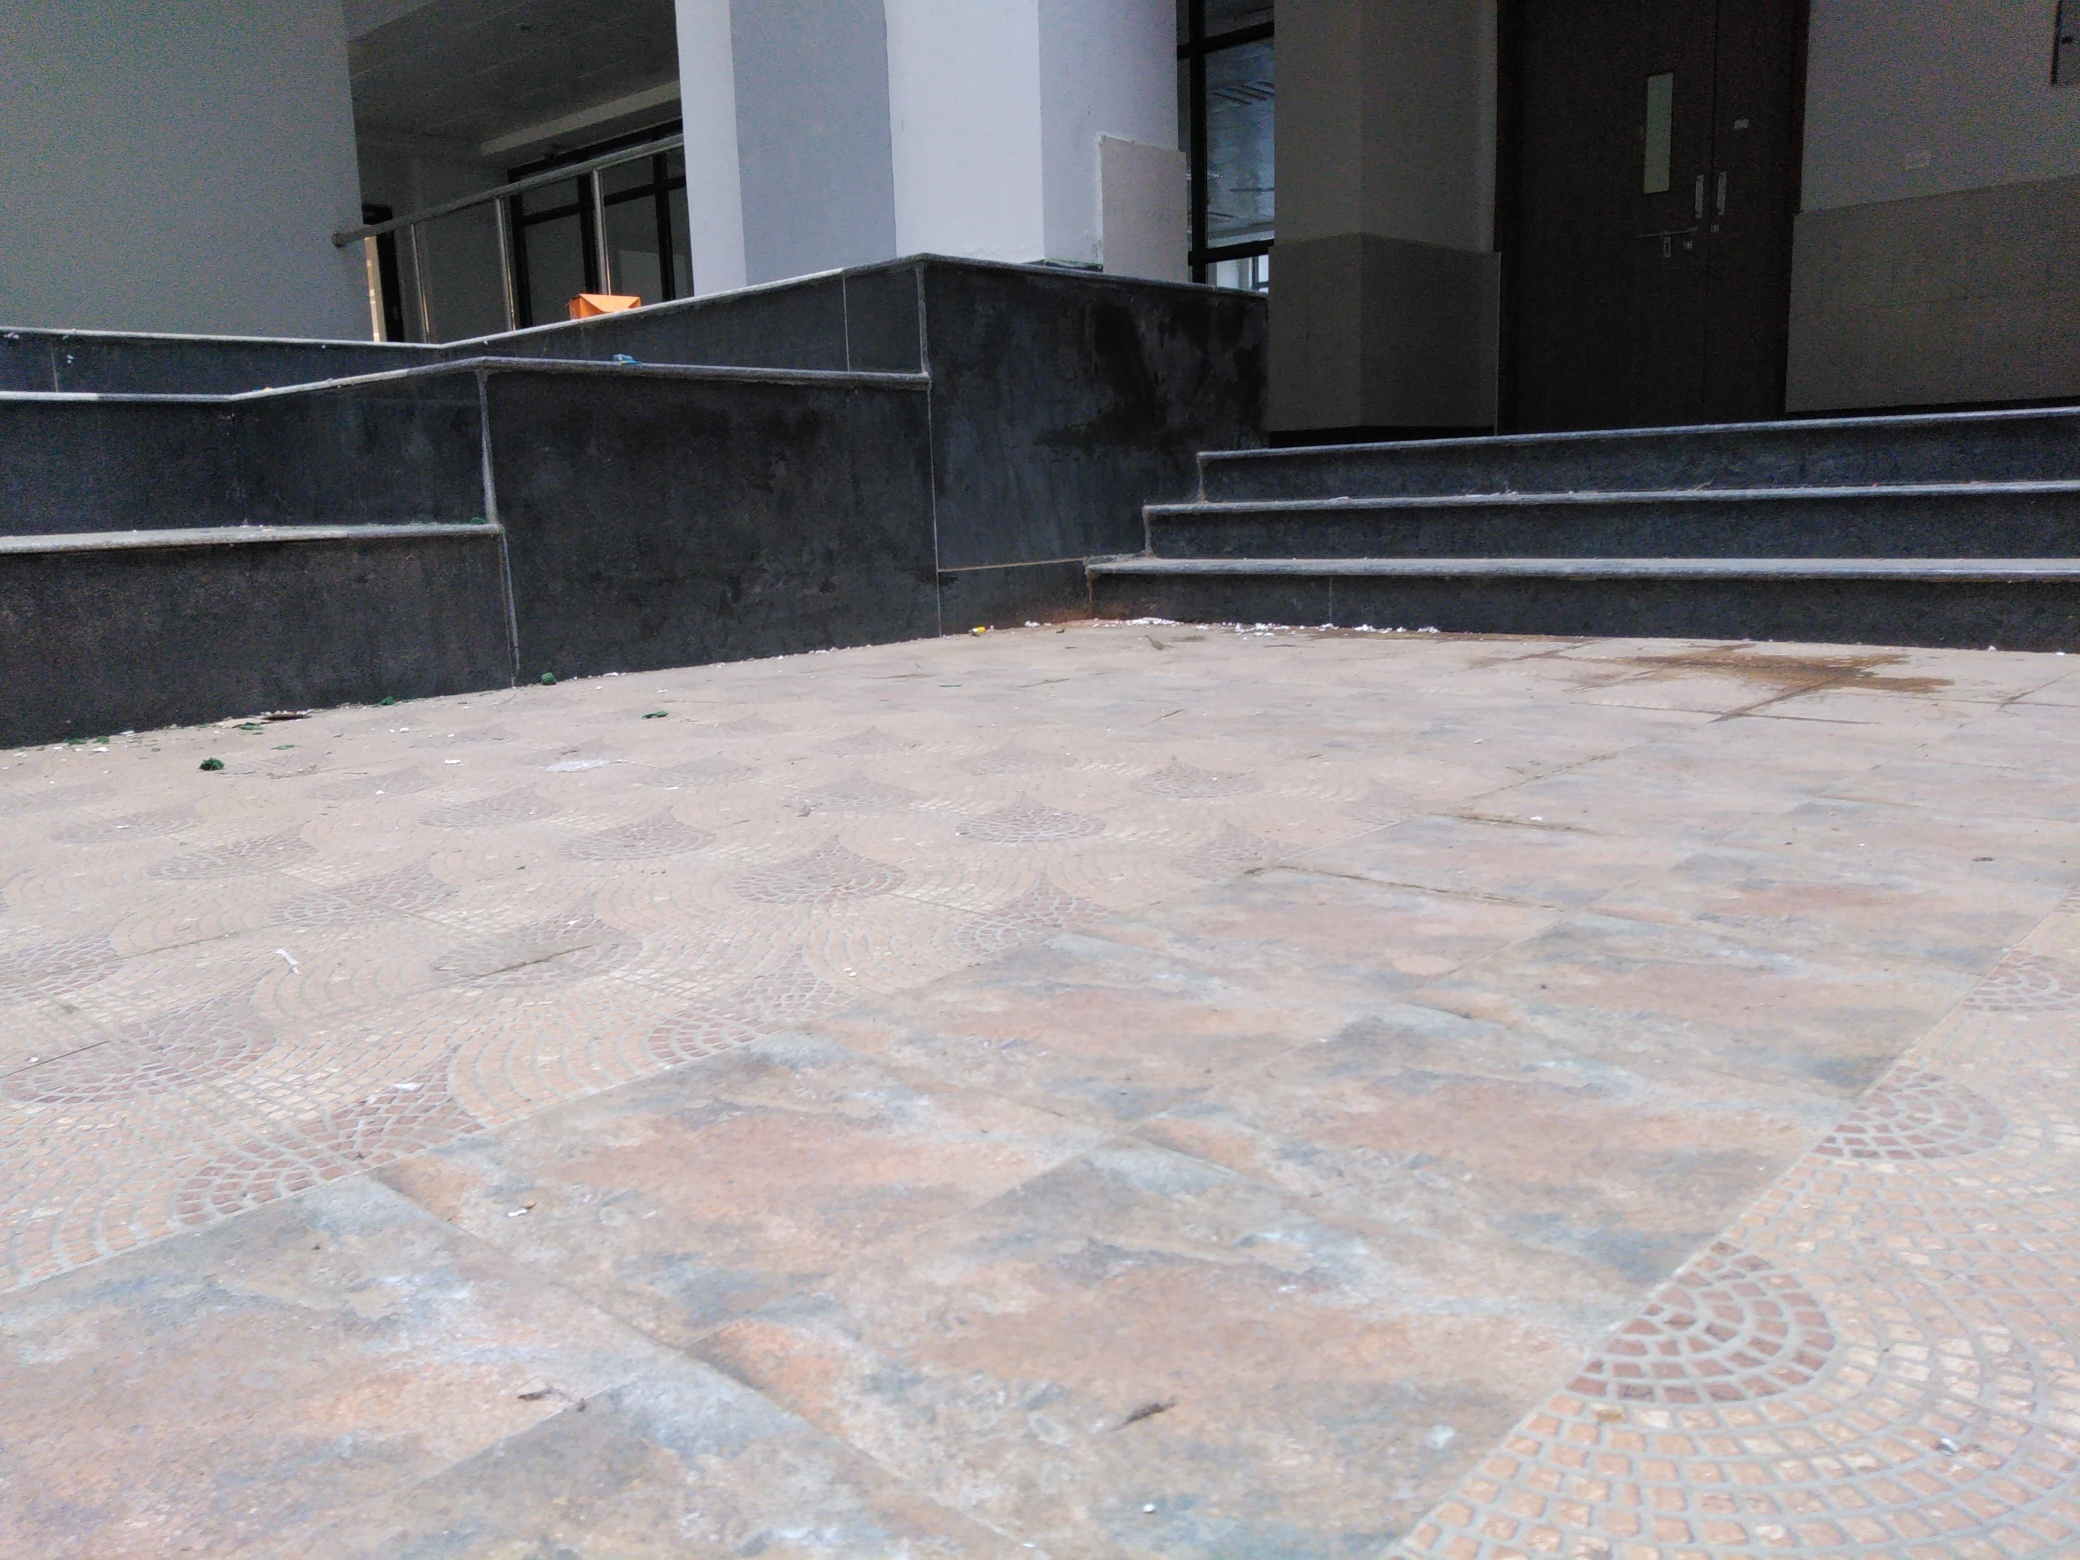stairs_up: (1091, 406, 2065, 644)
